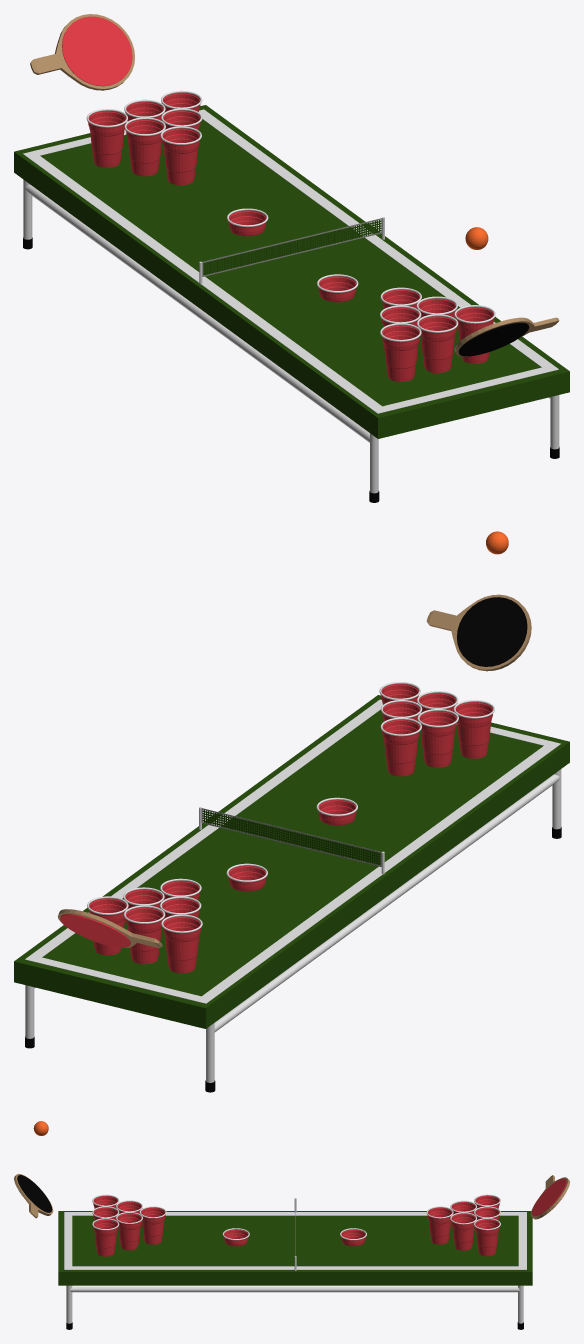
The model's file is beerpong.glb.
3 renders of one model, top to bottom at view 1: azimuth 30°, elevation 25°; view 2: azimuth 150°, elevation 25°; view 3: azimuth 270°, elevation 25°, orthographic. The views are drawn at different scales.
Parts seen in each view (by area): view 1: Object_8, Object_21, Object_10, Object_17, Object_20, Object_12, Object_14, Object_11, Object_15, Object_9, Object_6, Object_3 (+6 smaller); view 2: Object_8, Object_21, Object_10, Object_20, Object_7, Object_14, Object_12, Object_11, Object_13, Object_9, Object_6, Object_17 (+5 smaller); view 3: Object_8, Object_10, Object_21, Object_20, Object_16, Object_11, Object_12, Object_15, Object_13, Object_17, Object_3, Object_7 (+4 smaller).
Part boxes in pixels (left/top/right/bottom): Object_8: left=14, top=105, right=569, bottom=438; Object_21: left=23, top=129, right=547, bottom=413; Object_10: left=23, top=179, right=559, bottom=493; Object_17: left=62, top=16, right=356, bottom=302; Object_20: left=199, top=109, right=558, bottom=371; Object_12: left=382, top=307, right=494, bottom=381; Object_14: left=87, top=101, right=163, bottom=167; Object_11: left=382, top=289, right=456, bottom=372; Object_15: left=125, top=92, right=200, bottom=176; Object_9: left=203, top=220, right=381, bottom=275; Object_6: left=30, top=14, right=559, bottom=356; Object_3: left=161, top=128, right=199, bottom=185; Object_8: left=14, top=695, right=569, bottom=1028; Object_21: left=36, top=717, right=560, bottom=1003; Object_10: left=25, top=769, right=561, bottom=1082; Object_20: left=25, top=682, right=494, bottom=961; Object_7: left=25, top=597, right=561, bottom=1092; Object_14: left=125, top=907, right=201, bottom=973; Object_12: left=380, top=684, right=492, bottom=758; Object_11: left=381, top=693, right=456, bottom=776; Object_13: left=382, top=702, right=456, bottom=767; Object_9: left=202, top=810, right=380, bottom=865; Object_6: left=57, top=594, right=531, bottom=948; Object_17: left=60, top=799, right=356, bottom=947; Object_8: left=58, top=1211, right=532, bottom=1285; Object_10: left=66, top=1198, right=523, bottom=1323; Object_21: left=64, top=1206, right=526, bottom=1266; Object_20: left=64, top=1194, right=526, bottom=1269; Object_16: left=341, top=1213, right=475, bottom=1250; Object_11: left=93, top=1207, right=165, bottom=1244; Object_12: left=93, top=1196, right=118, bottom=1256; Object_15: left=451, top=1202, right=499, bottom=1256; Object_13: left=117, top=1201, right=141, bottom=1250; Object_17: left=224, top=1178, right=566, bottom=1246; Object_3: left=427, top=1207, right=452, bottom=1244; Object_7: left=17, top=1175, right=523, bottom=1329.
Bounding box in the file's own units: 1.05 × 1.4 × 4.04.
